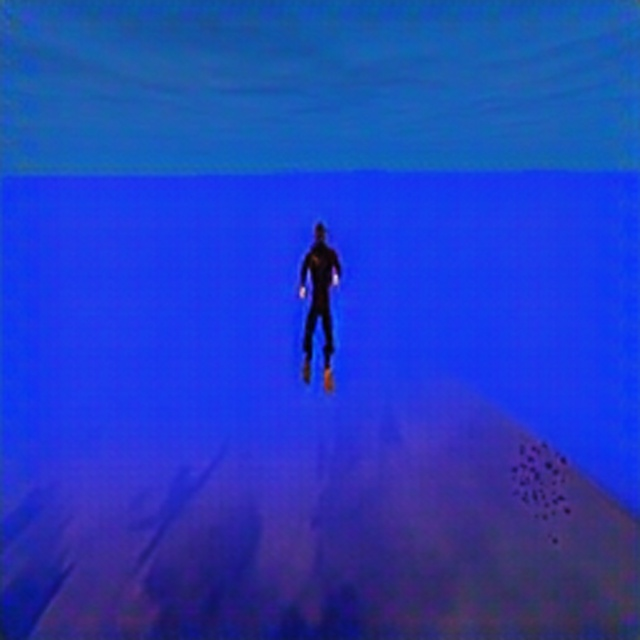diver: (295, 218, 344, 394)
